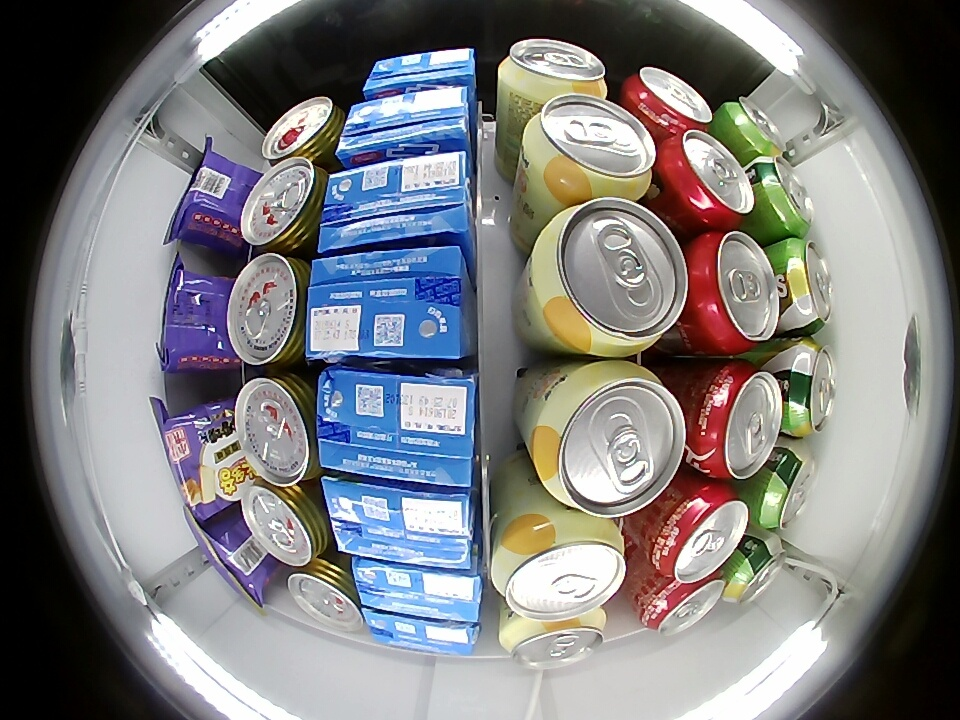hongniu: (261, 96, 346, 165)
hongniu2: (235, 372, 320, 485), (227, 254, 311, 367), (240, 159, 329, 253), (240, 482, 330, 566), (287, 559, 364, 631)
kaomo_jiaoyan: (162, 399, 247, 517), (169, 151, 258, 253), (159, 272, 238, 371), (191, 511, 274, 602)
kele: (688, 230, 780, 353), (691, 363, 785, 479), (648, 481, 749, 583), (660, 130, 756, 228), (625, 67, 713, 136), (640, 568, 724, 635)
mangguoxiaolao: (529, 198, 689, 357), (529, 361, 687, 518), (522, 94, 657, 201), (491, 515, 626, 621), (499, 38, 608, 104), (498, 607, 608, 669)
quchenshixiangcao: (777, 238, 834, 336), (782, 338, 837, 439), (754, 441, 816, 530), (723, 528, 786, 605), (754, 158, 815, 237), (717, 96, 785, 156)
weitanai: (305, 244, 474, 363), (316, 366, 481, 487), (320, 151, 476, 256), (322, 474, 482, 571), (336, 85, 470, 168), (353, 557, 485, 623), (361, 48, 478, 101), (362, 608, 481, 656)
